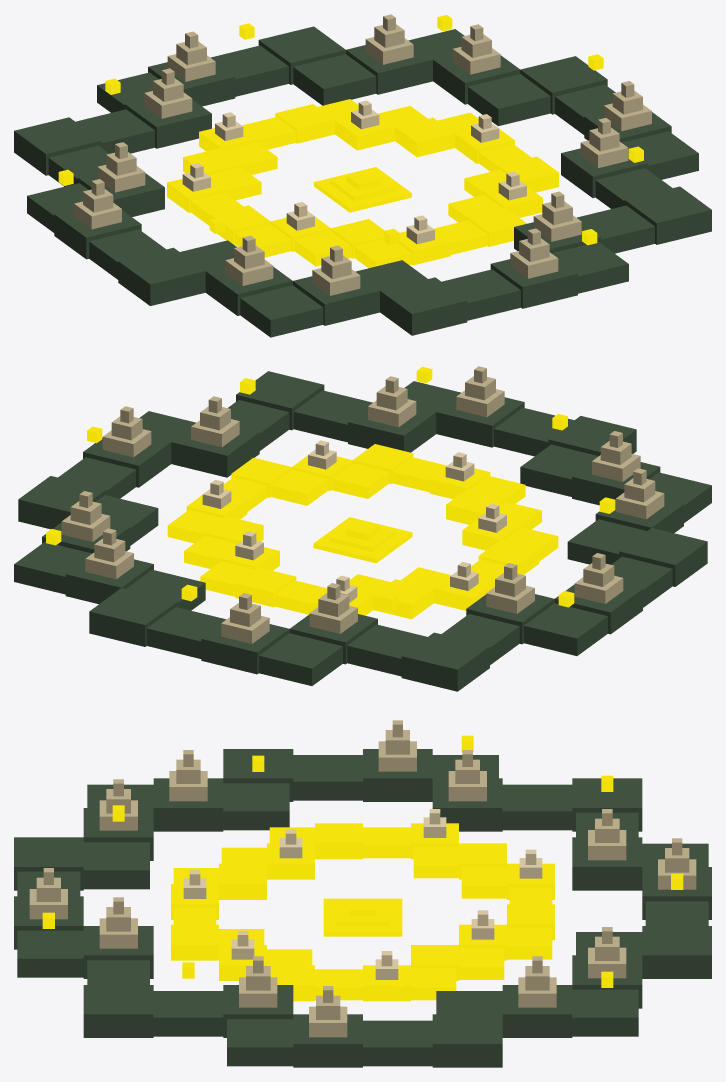
The model's file is fx_pet_bramble_howl.glb.
3 renders of one model, top to bottom at view 1: azimuth 30°, elevation 25°; view 2: azimuth 150°, elevation 25°; view 3: azimuth 270°, elevation 25°, orthographic. The views are drawn at different scales.
Parts seen in each view (by area): view 1: pet_bramble_howl_ring_outer_Mesh1, pet_bramble_howl_ring_inner_Glow1, pet_bramble_howl_ring_inner_Mesh2, pet_bramble_howl_flash_Glow1, pet_bramble_howl_ring_outer_Glow2; view 2: pet_bramble_howl_ring_outer_Mesh1, pet_bramble_howl_ring_inner_Glow1, pet_bramble_howl_ring_inner_Mesh2, pet_bramble_howl_flash_Glow1, pet_bramble_howl_ring_outer_Glow2; view 3: pet_bramble_howl_ring_outer_Mesh1, pet_bramble_howl_ring_inner_Glow1, pet_bramble_howl_ring_inner_Mesh2, pet_bramble_howl_flash_Glow1, pet_bramble_howl_ring_outer_Glow2.
Boxes of the visible parts, bbox=[...] form: pet_bramble_howl_ring_outer_Mesh1: bbox=[14, 14, 711, 337]; pet_bramble_howl_ring_inner_Glow1: bbox=[167, 99, 558, 268]; pet_bramble_howl_ring_inner_Mesh2: bbox=[182, 100, 526, 244]; pet_bramble_howl_flash_Glow1: bbox=[314, 167, 411, 212]; pet_bramble_howl_ring_outer_Glow2: bbox=[58, 15, 643, 245]; pet_bramble_howl_ring_outer_Mesh1: bbox=[14, 366, 711, 691]; pet_bramble_howl_ring_inner_Glow1: bbox=[167, 444, 558, 619]; pet_bramble_howl_ring_inner_Mesh2: bbox=[202, 440, 506, 602]; pet_bramble_howl_flash_Glow1: bbox=[313, 517, 412, 563]; pet_bramble_howl_ring_outer_Glow2: bbox=[46, 366, 615, 609]; pet_bramble_howl_ring_outer_Mesh1: bbox=[14, 720, 711, 1067]; pet_bramble_howl_ring_inner_Glow1: bbox=[171, 823, 554, 1001]; pet_bramble_howl_ring_inner_Mesh2: bbox=[183, 809, 542, 979]; pet_bramble_howl_flash_Glow1: bbox=[323, 898, 402, 936]; pet_bramble_howl_ring_outer_Glow2: bbox=[42, 735, 683, 998].
Bounding box in the file's own units: 8 × 0.86 × 8.
